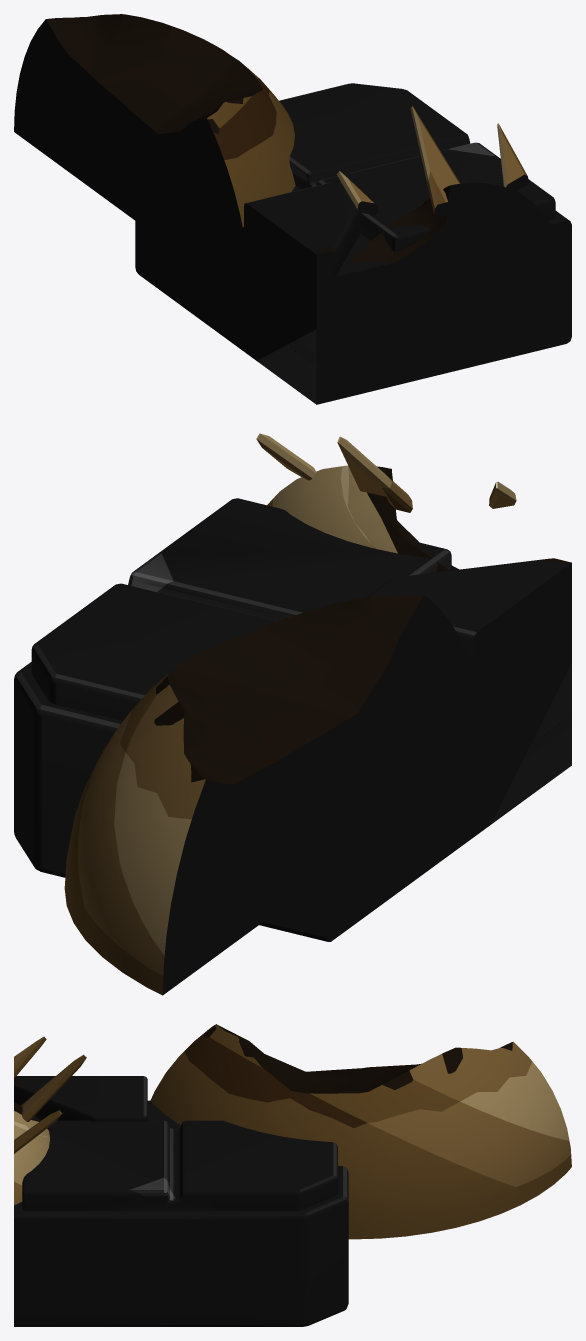
File: gold_domes_tr_wreck.glb
3 views of the same model, one above another, from view 1: azimuth 30°, elevation 25°; view 2: azimuth 150°, elevation 25°; view 3: azimuth 270°, elevation 25° (orthographic). The views are drawn at different scales.
Parts seen in each view (by area): view 1: gold_domes_tr_wreck; view 2: gold_domes_tr_wreck; view 3: gold_domes_tr_wreck.
Boxes of the visible parts, bbox=[...] form: gold_domes_tr_wreck: bbox=[14, 14, 571, 404]; gold_domes_tr_wreck: bbox=[14, 433, 571, 995]; gold_domes_tr_wreck: bbox=[14, 1024, 571, 1326].
Bounding box in the file's own units: 13 × 11.59 × 26.69.
